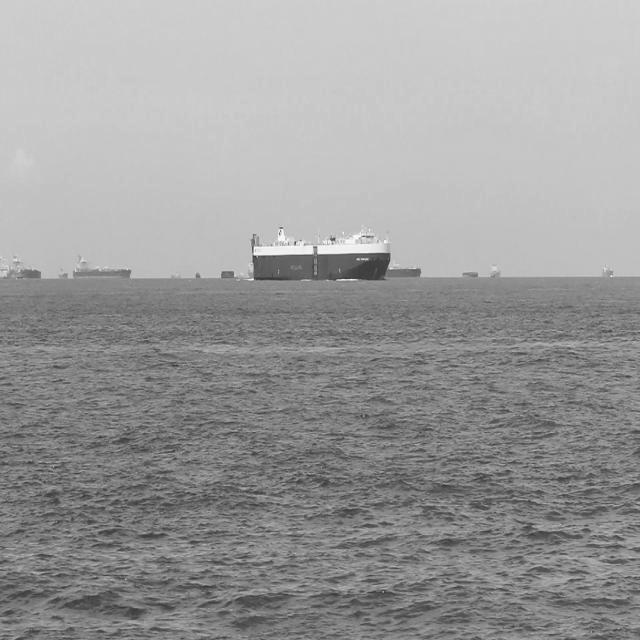ship: (250, 227, 392, 286), (74, 253, 136, 280), (8, 258, 45, 284), (386, 255, 421, 282), (51, 262, 70, 284), (488, 262, 503, 284), (600, 260, 615, 282), (0, 259, 11, 287), (460, 267, 480, 281), (222, 268, 239, 284), (173, 268, 186, 288), (192, 264, 201, 286)
